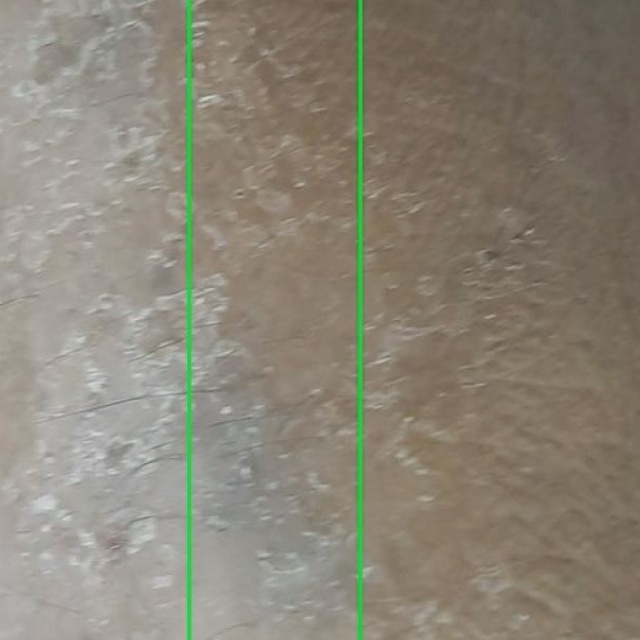Eczema: (189, 0, 639, 639), (0, 0, 360, 639)
